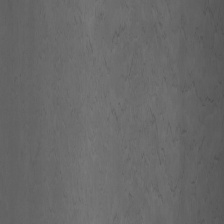silk_spot: (106, 93, 192, 182), (153, 8, 224, 73), (83, 14, 143, 84)
